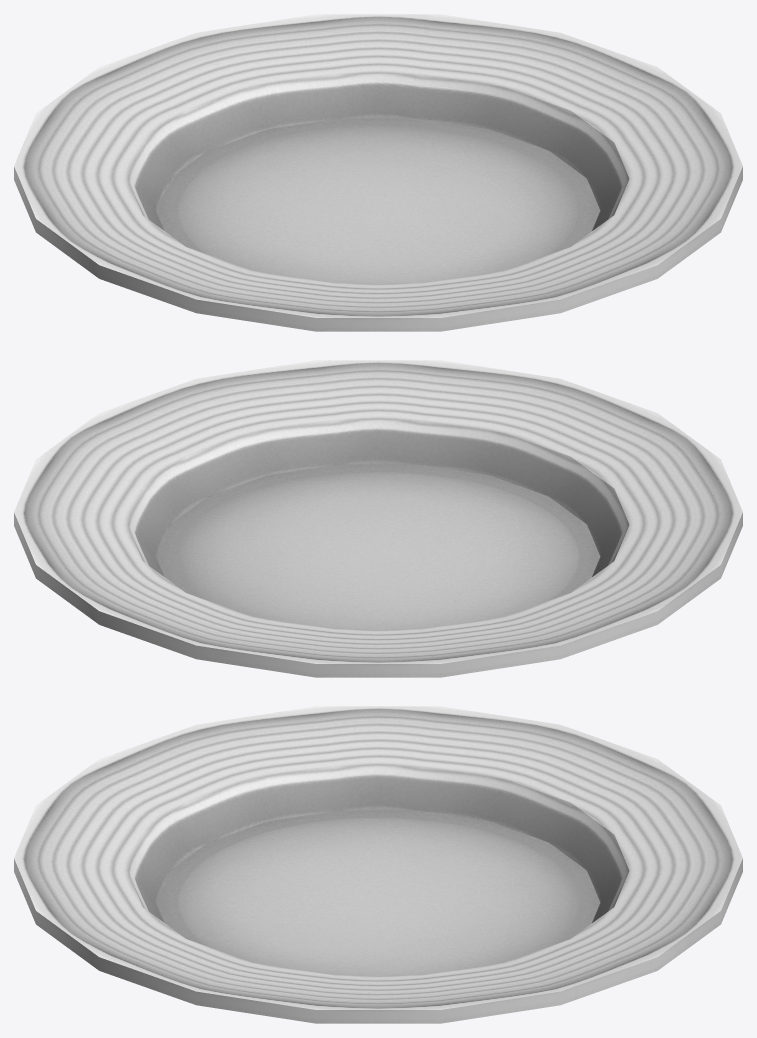
Rendered from 172_a_gold_plate.fbx.
The picture shows the model from 3 angles, top to bottom: view 1: azimuth 30°, elevation 25°; view 2: azimuth 150°, elevation 25°; view 3: azimuth 270°, elevation 25°; orthographic projection.
Visible parts, largest first — view 1: 172_a_gold_plate; view 2: 172_a_gold_plate; view 3: 172_a_gold_plate.
Part boxes in pixels (left/top/right/bottom): 172_a_gold_plate: left=14, top=14, right=742, bottom=331; 172_a_gold_plate: left=14, top=360, right=742, bottom=677; 172_a_gold_plate: left=14, top=706, right=742, bottom=1023.
Size of the model in its own units: 24.11 by 1.94 by 24.48.
